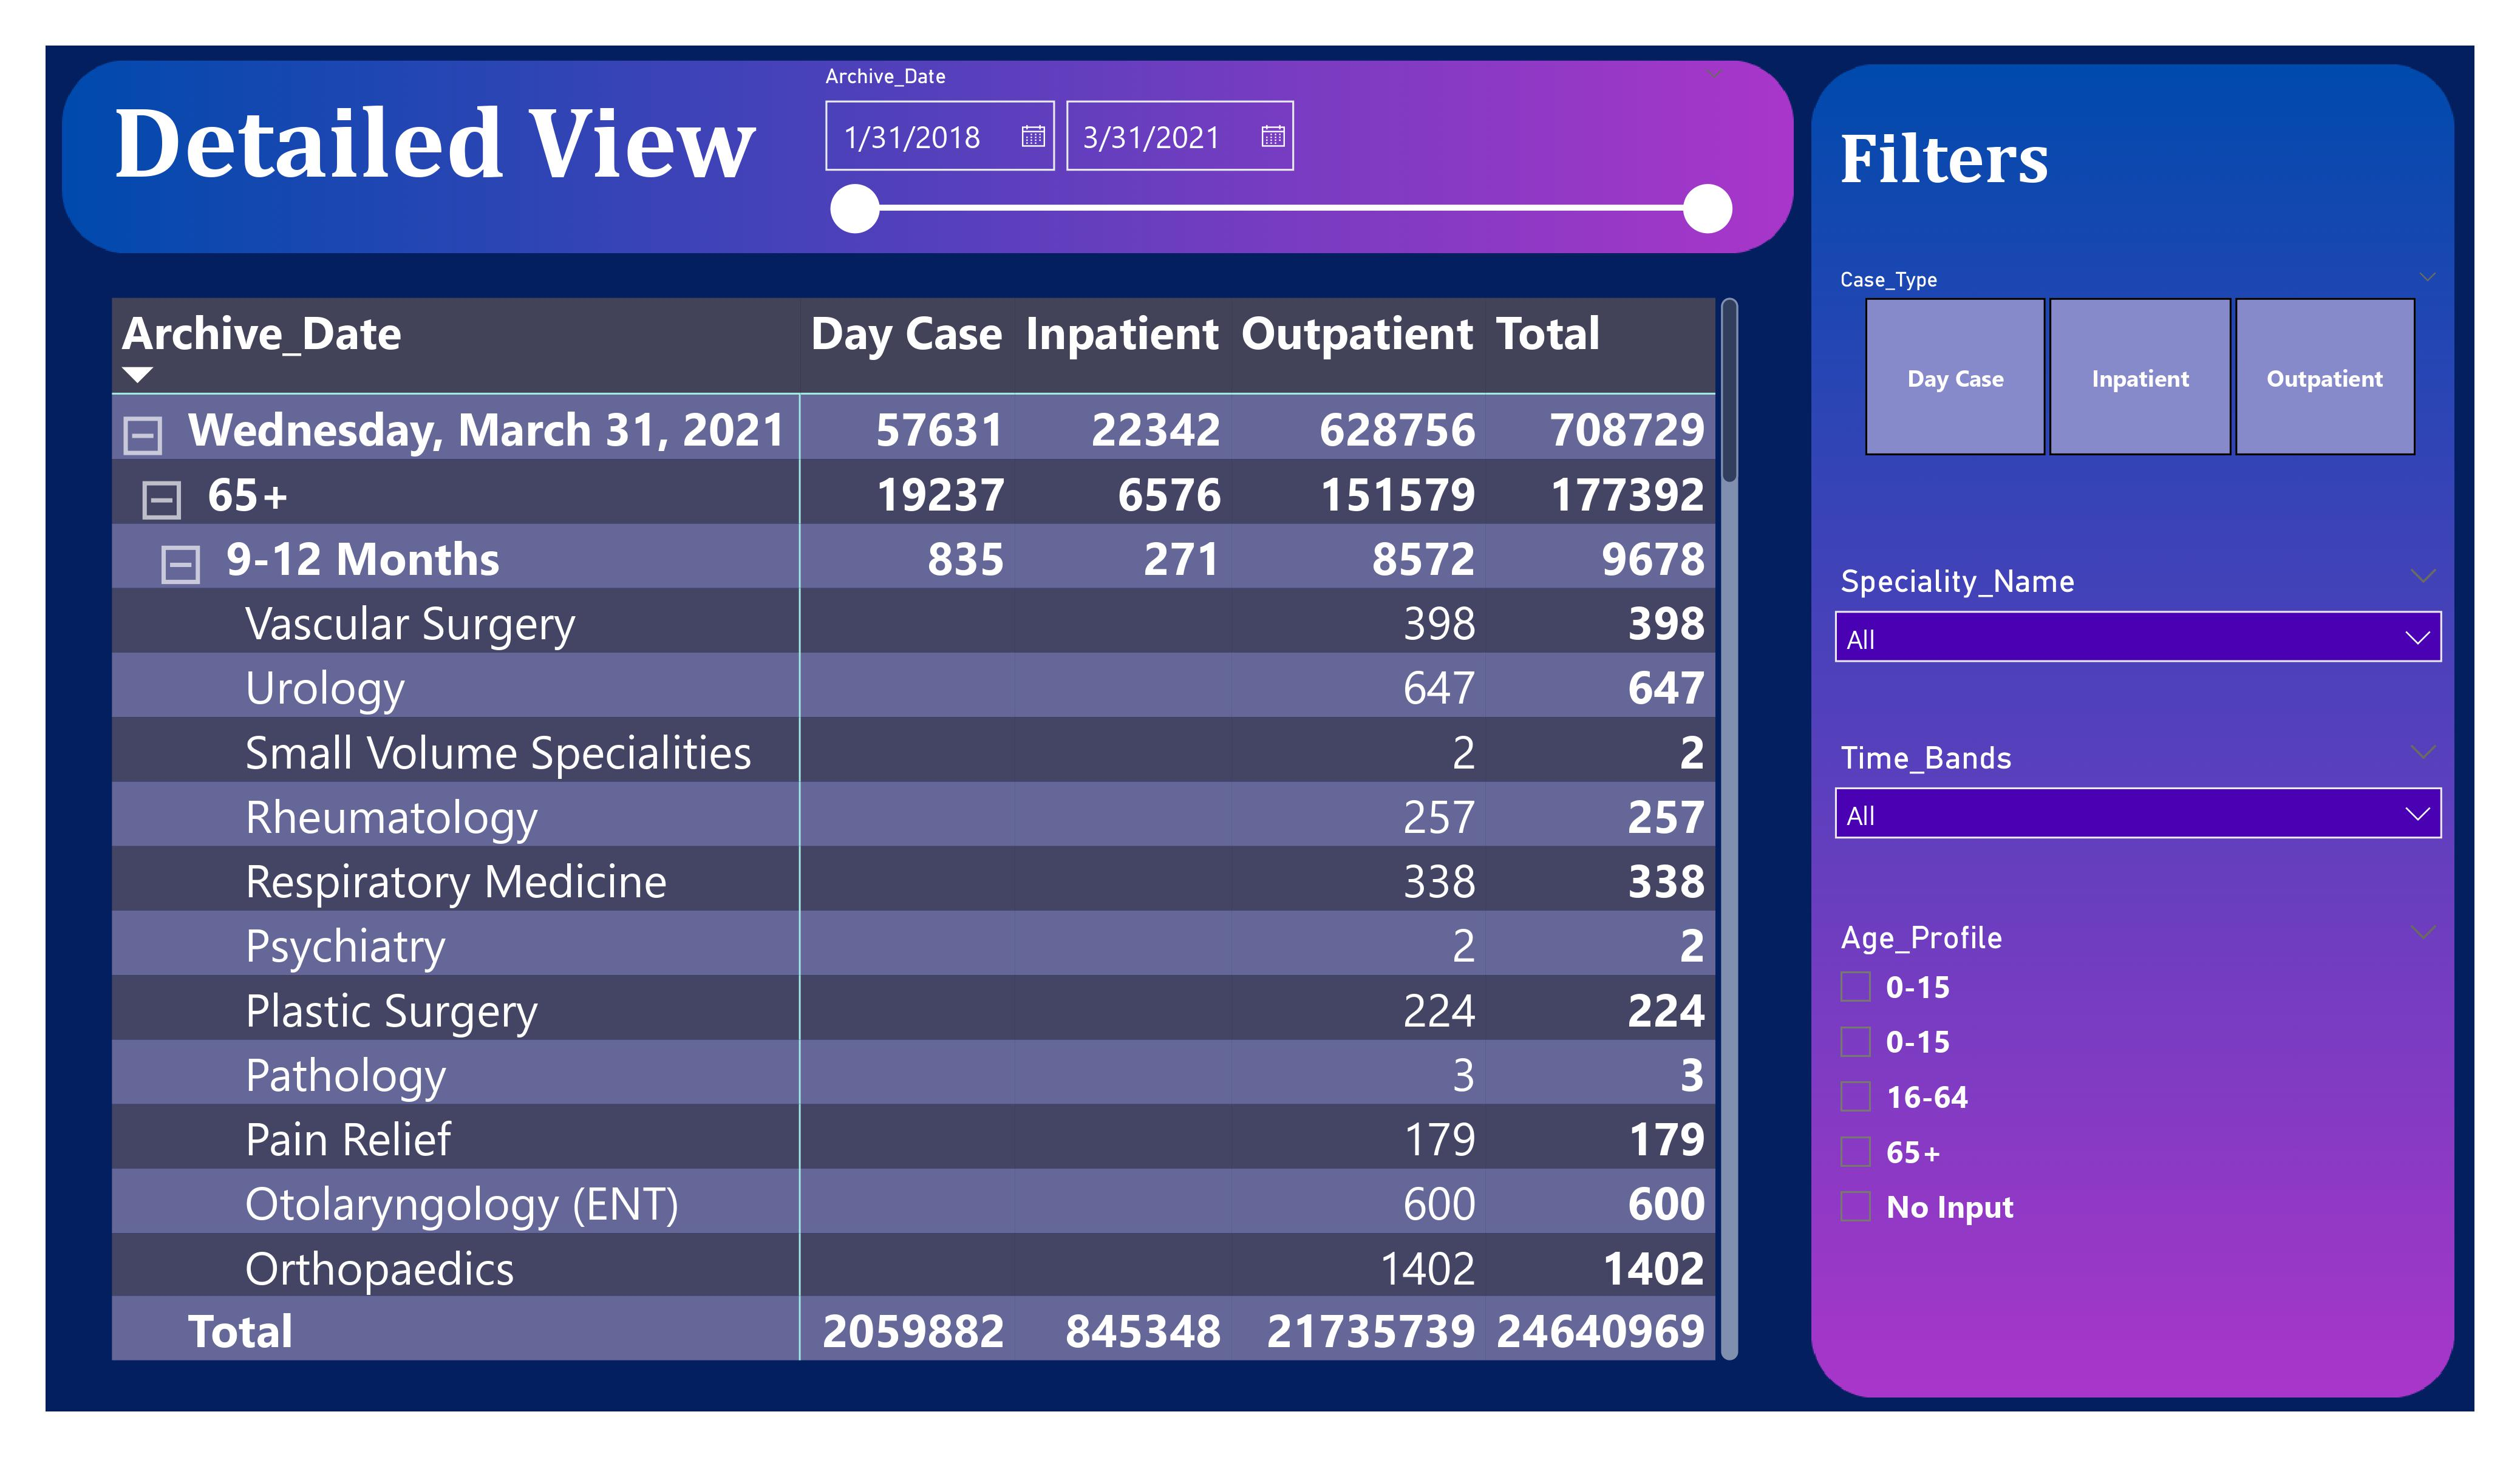

The dashboard page shown, as its layout file describes it:
{"tool":"powerbi","page":{"name":"Detail","canvas":[1280,720],"ordinal":1},"visuals":[{"type":"slicer","fields":{"Values":["All_Data.Archive_Date"]},"box":[398.3,5,498.3,98.3],"z":0},{"type":"slicer","fields":{"Values":["All_Data.Case_Type"]},"box":[933.3,111.7,340,111.7],"z":1000},{"type":"slicer","fields":{"Values":["All_Data.Speciality_Name"]},"box":[933.3,266.7,340,80],"z":2000},{"type":"slicer","fields":{"Values":["All_Data.Age_Profile"]},"box":[933.3,455,340,193.3],"z":3000},{"type":"slicer","fields":{"Values":["All_Data.Time_Bands"]},"box":[933.3,360,340,80],"z":4000},{"type":"pivotTable","fields":{"Rows":["All_Data.Archive_Date","All_Data.Age_Profile","All_Data.Time_Bands","All_Data.Speciality_Name"],"Columns":["All_Data.Case_Type"],"Values":["Sum(All_Data.Total)"]},"box":[30,128.3,866.7,570],"z":5000},{"type":"textbox","box":[940,31.7,336.7,61.7],"z":6000},{"type":"textbox","box":[30,13.3,368.3,83.3],"z":7000}]}

Visuals, with their boxes in screenshot pixels (x1, y1, x2, y2):
slicer - All_Data.Archive_Date: detection(802, 55, 1747, 242)
slicer - All_Data.Case_Type: detection(1817, 257, 2462, 469)
slicer - All_Data.Speciality_Name: detection(1817, 551, 2462, 703)
slicer - All_Data.Age_Profile: detection(1817, 909, 2462, 1275)
slicer - All_Data.Time_Bands: detection(1817, 728, 2462, 880)
pivotTable - All_Data.Archive_Date x All_Data.Age_Profile: detection(103, 289, 1747, 1370)
textbox: detection(1829, 106, 2468, 223)
textbox: detection(103, 71, 802, 229)
